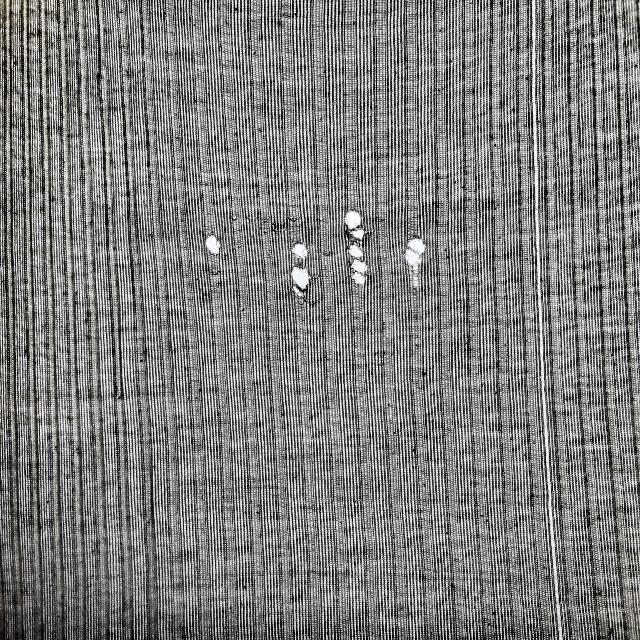Hole: (203, 229, 226, 256), (343, 201, 364, 229), (292, 234, 312, 260), (291, 270, 311, 290), (347, 253, 372, 268), (349, 269, 371, 282), (348, 243, 366, 258), (348, 229, 368, 242)
Stitch: (528, 0, 576, 640), (404, 228, 430, 292)
